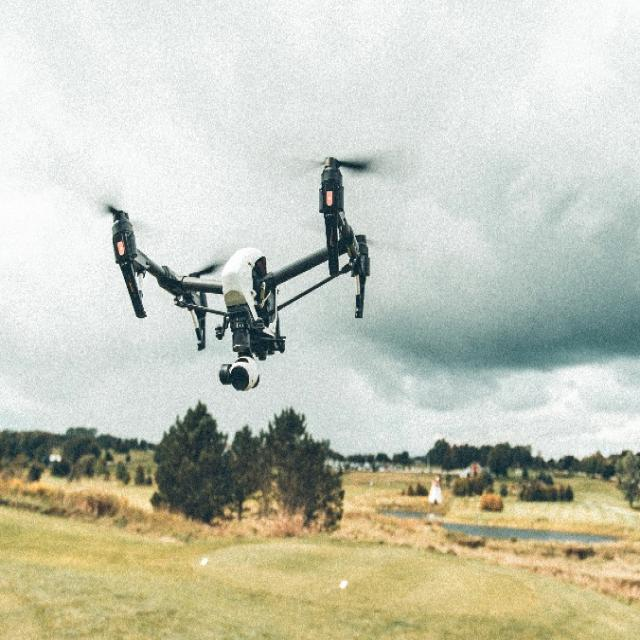drone: (78, 123, 402, 393)
